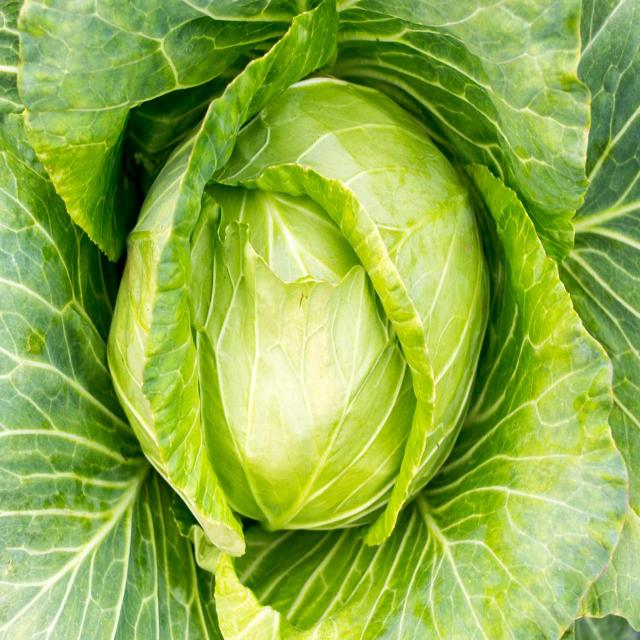cabbage: (86, 66, 503, 531)
